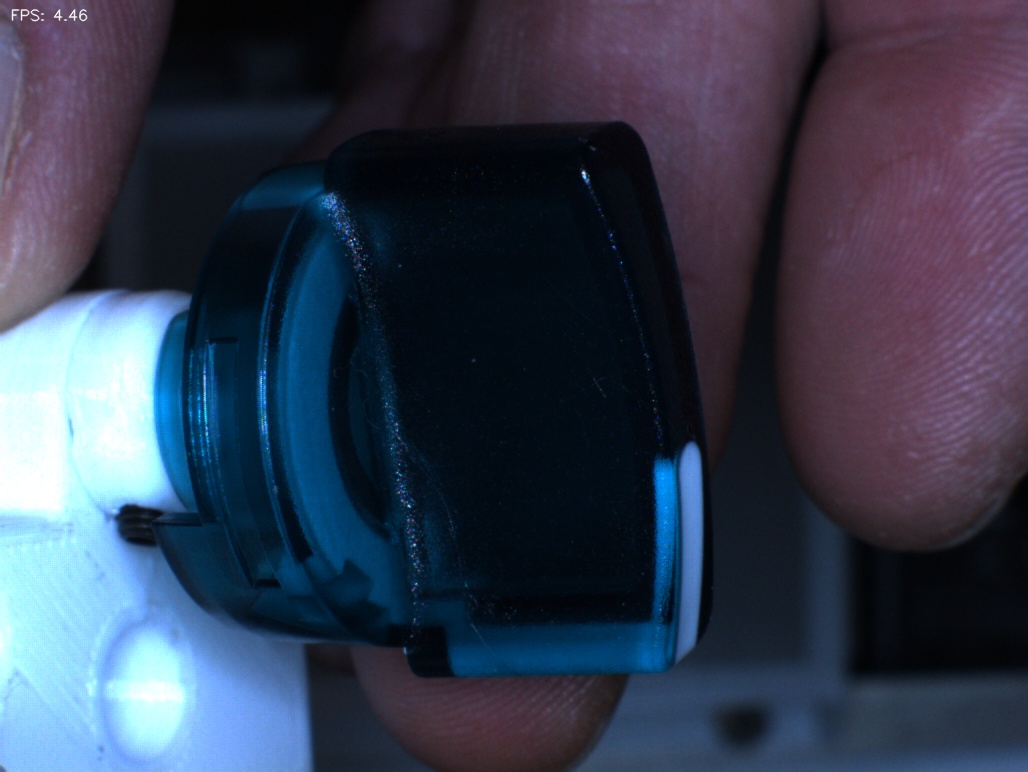Givrage: (402, 429, 495, 648)
